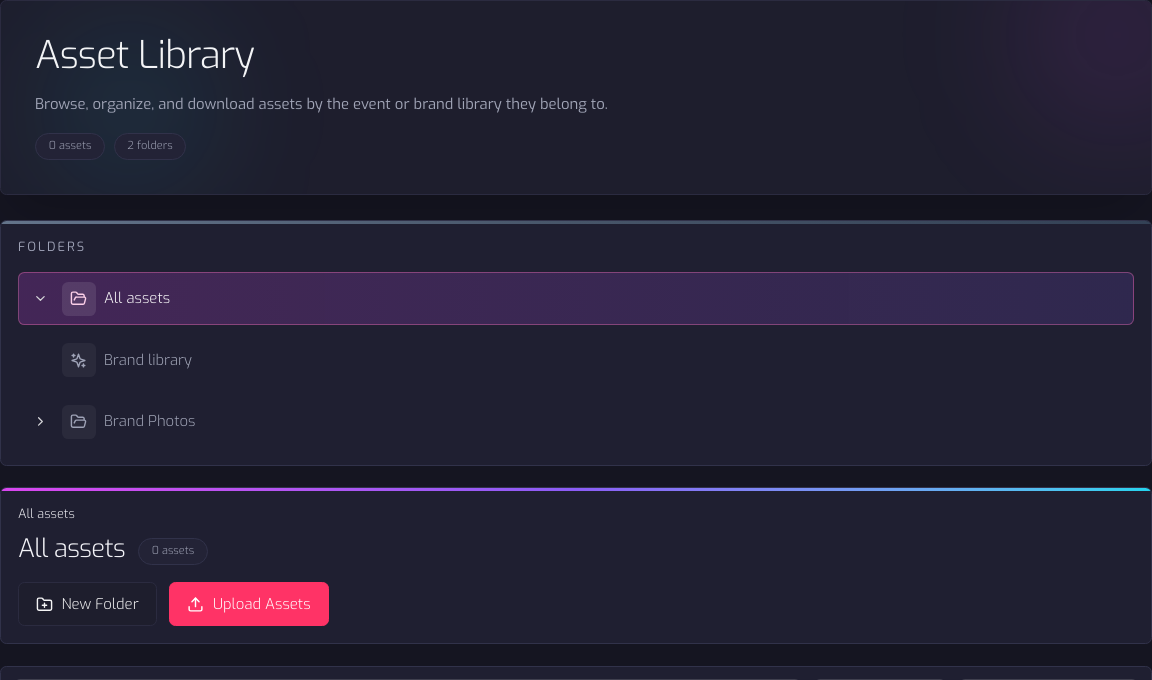
AssetLibraryView › creates folders inside selected subdirectories
The image size is (1152, 680).
Click the button "New Folder".
click(87, 604)  # box [18,582,157,626]
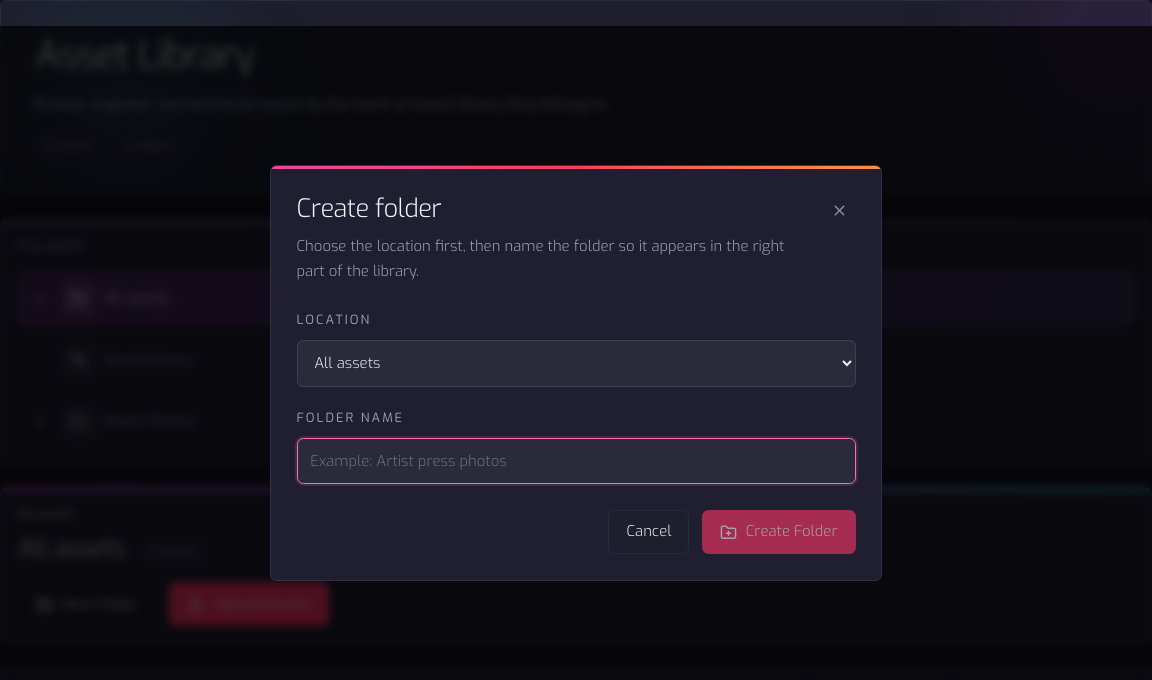
Select "Headliners" in the dropdown named "Folder location" at (576, 363), box [296,340,856,387]
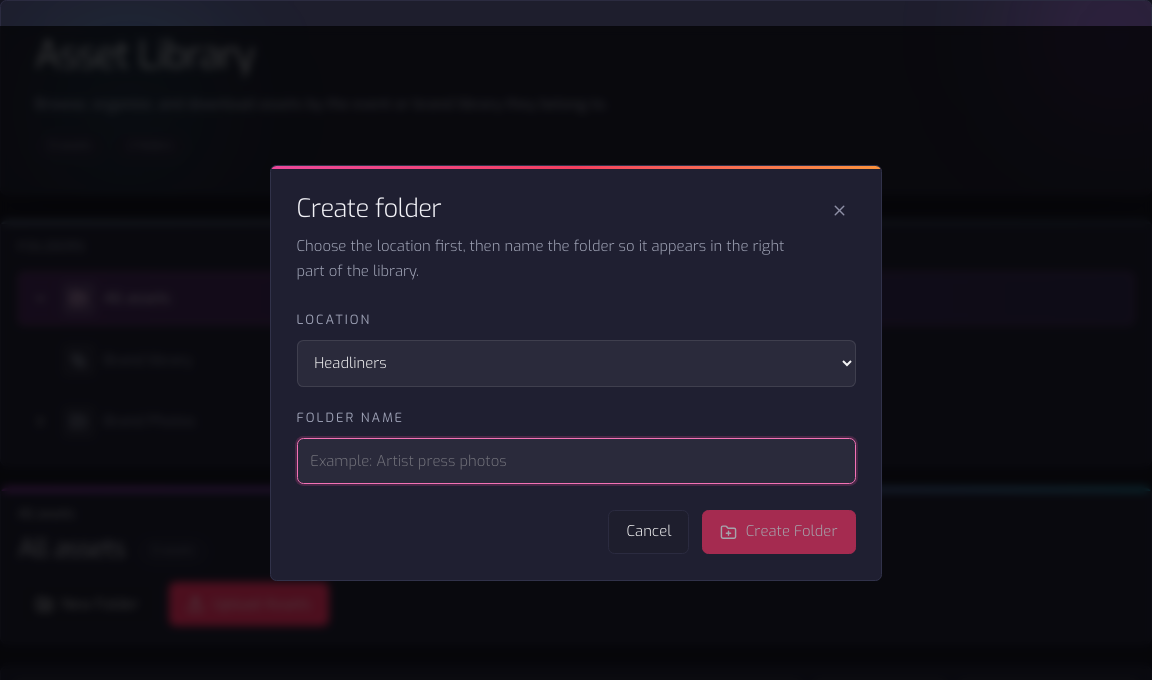
Type "Press Selects" into the field labelled "Folder name".
click(576, 461); type("Press Selects")  # box [296,438,856,484]
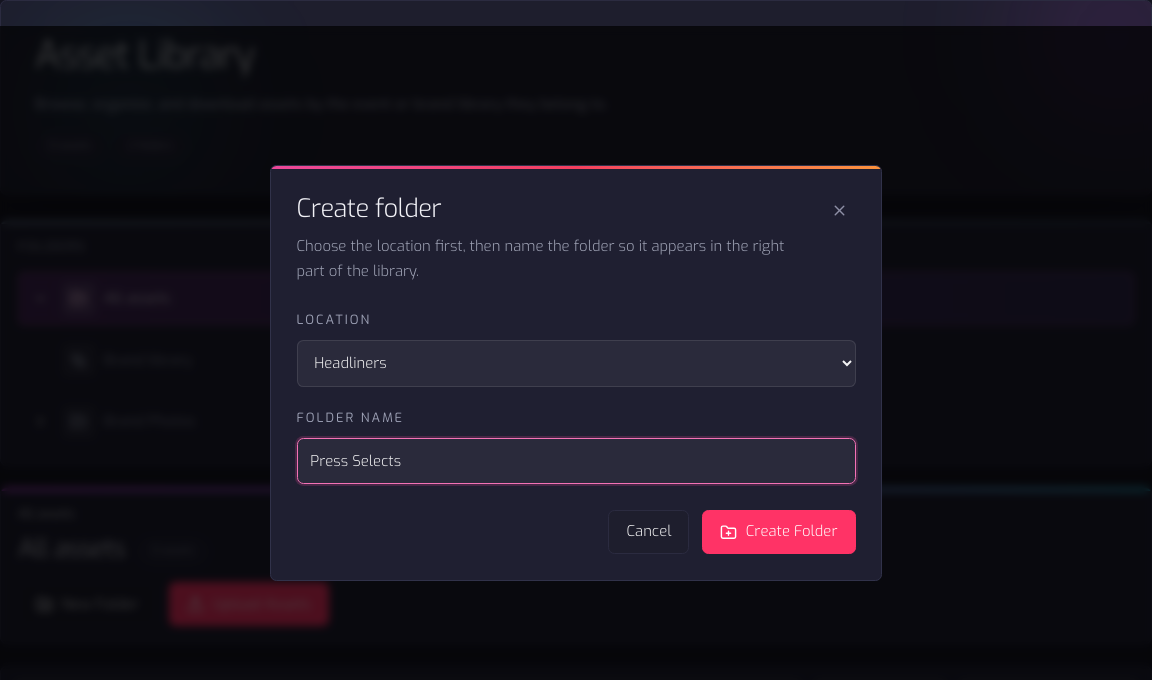
Click the button "Create Folder".
click(779, 532)  # box [702,510,856,554]
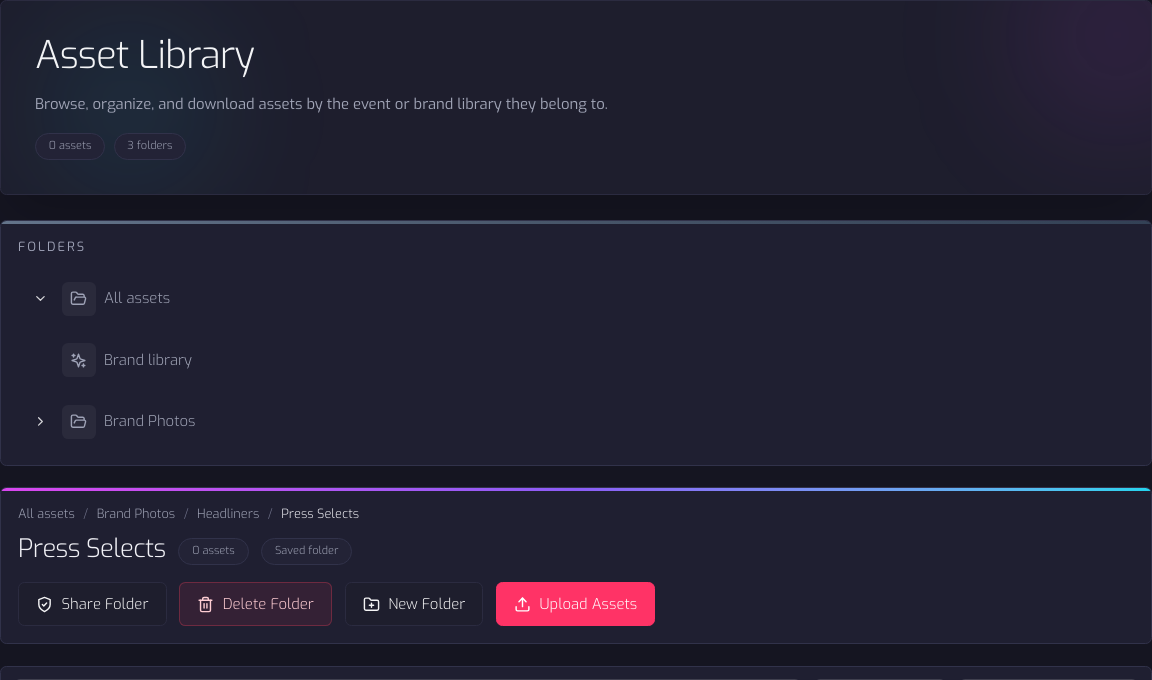
Check: the button "Press Selects" is shown, box [281,506,359,522]
